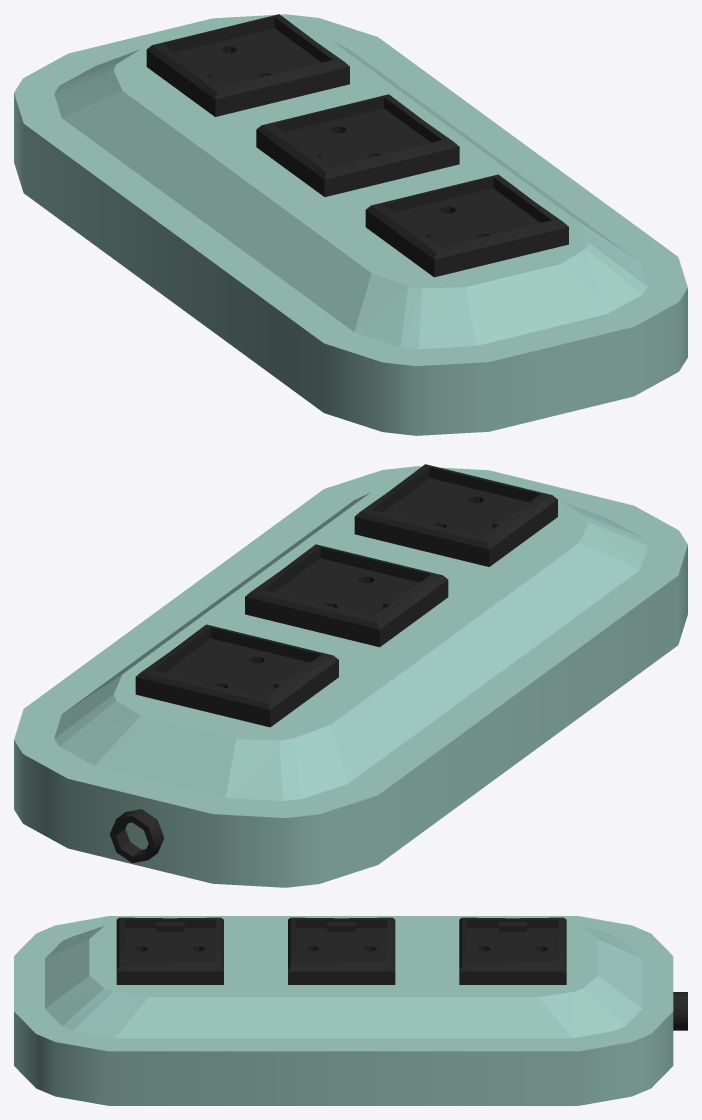
Rendered from SM_electricity_slots.fbx.
3 views of the same model, one above another, from view 1: azimuth 30°, elevation 25°; view 2: azimuth 150°, elevation 25°; view 3: azimuth 270°, elevation 25° (orthographic). The views are drawn at different scales.
Visible parts, largest first — view 1: electricity_slots; view 2: electricity_slots; view 3: electricity_slots.
Part boxes in pixels (left/top/right/bottom): electricity_slots: left=14, top=14, right=687, bottom=435; electricity_slots: left=14, top=464, right=687, bottom=887; electricity_slots: left=14, top=916, right=687, bottom=1105.
Bounding box in the file's own units: 34.76 × 11.94 × 73.17.
